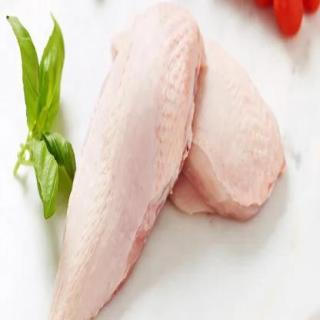Ayam: (52, 1, 288, 320), (51, 4, 206, 320), (182, 31, 288, 226)
